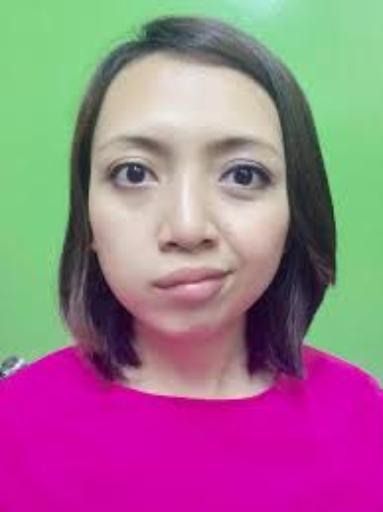left_eye: (219, 164, 275, 195)
left_lip_corner: (226, 263, 240, 279)
right_eye: (108, 162, 162, 192)
right_lip_corner: (148, 278, 166, 295)
